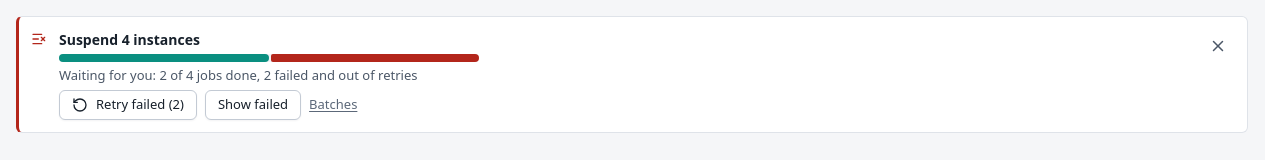
receipts of bulk changes › shows the progress, names the failures and retries them
The image size is (1265, 160).
Later steps or results of the test are not shown.
Expected: the text "Suspend 4 instances" is shown, [59,30,200,49]
Expected: the text "Waiting for you: 2 of 4 jobs done, 2 failed and out of retries" is shown, [59,66,418,84]
What coordinates should you click on to do the following:
click the button "Retry failed (2)"
I would click on:
 (128, 104)
Its box is [59,90,197,120].
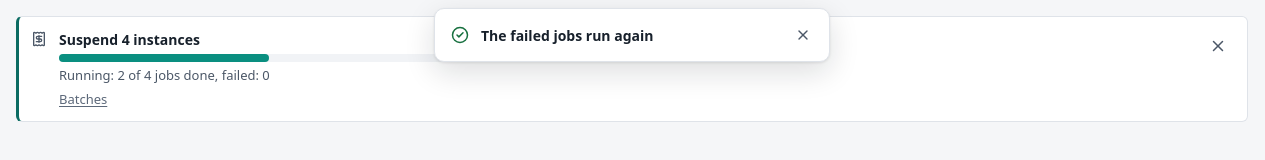
Now the text "Running: 2 of 4 jobs done, failed: 0" is shown, box [59,66,270,84]
